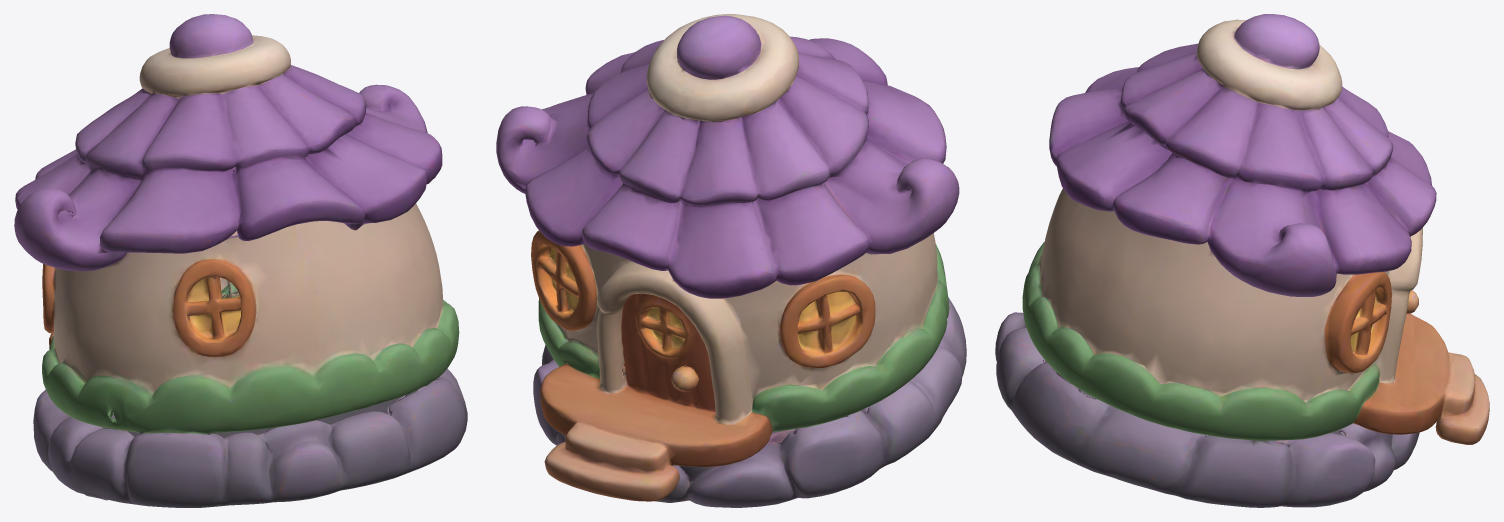
Rendered from item_teahouse.glb.
3 views of the same model, side by side, from view 1: azimuth 30°, elevation 25°; view 2: azimuth 150°, elevation 25°; view 3: azimuth 270°, elevation 25° (orthographic). The views are drawn at different scales.
Visible parts, largest first — view 1: geometry_0; view 2: geometry_0; view 3: geometry_0.
Boxes of the visible parts, x1,y1,x2,y2 form: geometry_0: (14, 14, 467, 507); geometry_0: (496, 14, 966, 507); geometry_0: (995, 14, 1489, 507).
Size of the model in its own units: 0.8634 by 0.8568 by 0.8956.
Materials: 1 (1 with a texture image).
